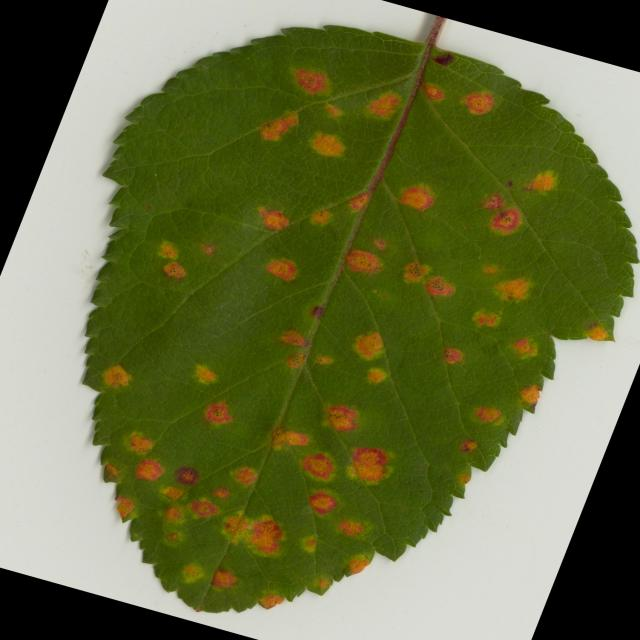Gymnosporangium_Rusts: (79, 18, 636, 614)
